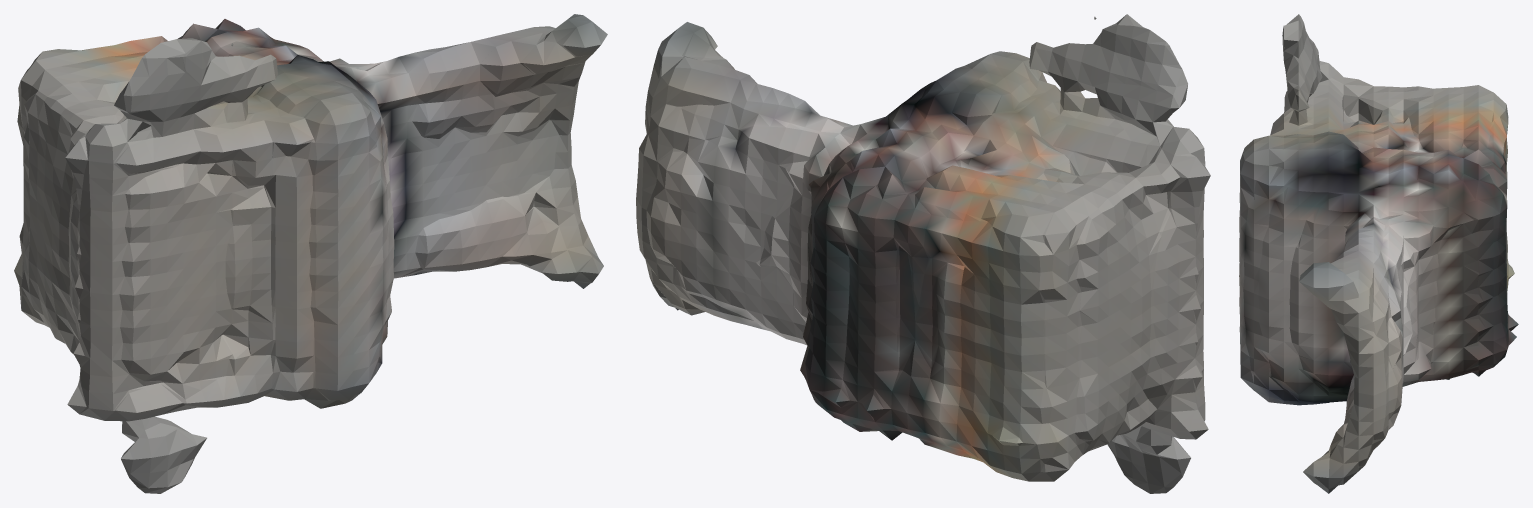
The model's file is triposr_p4_chair_mesh.glb.
The picture shows the model from 3 angles, left to right: view 1: azimuth 30°, elevation 25°; view 2: azimuth 150°, elevation 25°; view 3: azimuth 270°, elevation 25°; orthographic projection. The views are drawn at different scales.
Parts seen in each view (by area): view 1: world; view 2: world; view 3: world.
Part boxes in pixels (<box>): world: <box>14,14,607,493</box>; world: <box>636,14,1210,493</box>; world: <box>1239,14,1518,493</box>.
Bounding box in the file's own units: 0.9359 × 0.7577 × 0.5154.
